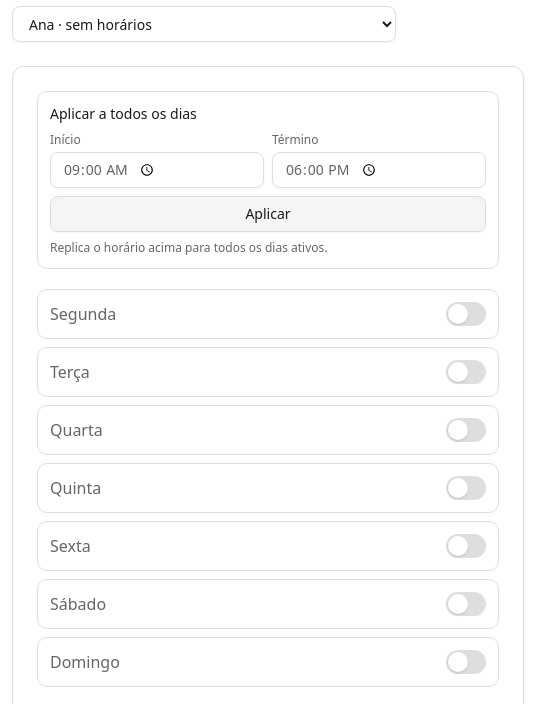
Test case: ConfiguracoesHorarios › salva a semana via PUT com os 7 dias (dia ativado entra is_active)
The image size is (541, 704).
Click the switch named "Segunda".
click(466, 314)  # box [446, 302, 486, 326]
(page scrolled)
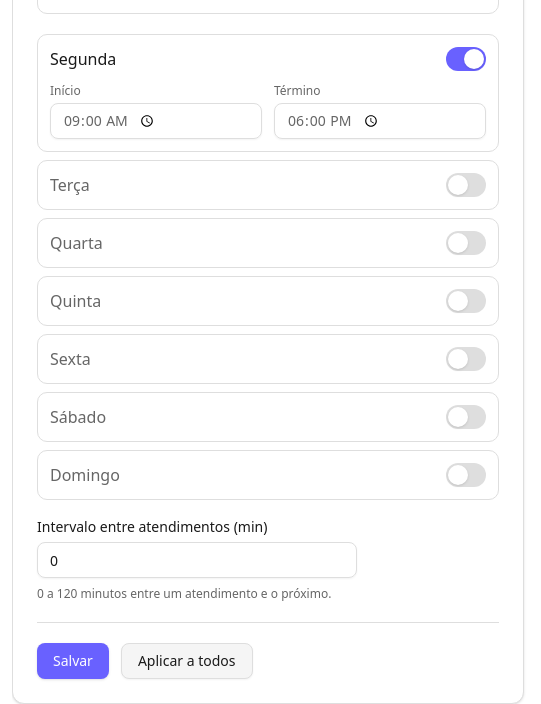
Click the button "Salvar".
click(73, 661)  # box [37, 643, 109, 679]
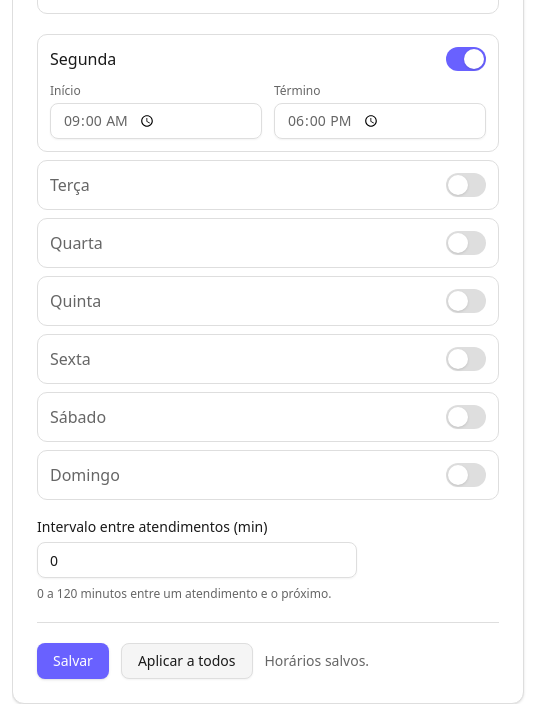
Now the message "Horários salvos." is shown, box [264, 651, 369, 671]
